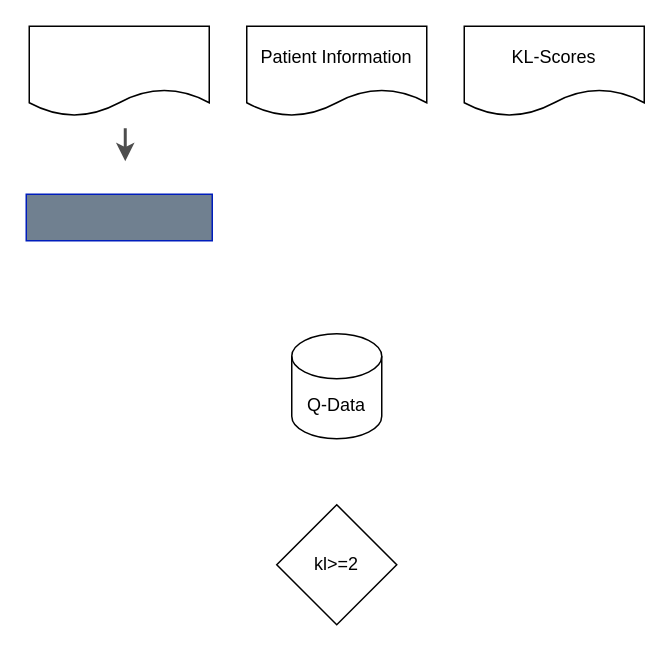
The diagram is 671 pixels wide and 651 high, and some of its shapes have lost their labels. Here are the shapes that lost their labels. From the top down, the centre of each, then its label:
point 118,70: PROMs
point 118,217: cleaning
